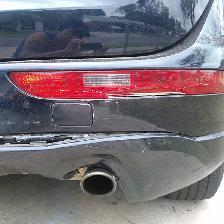tail_lamp: (6, 10, 224, 152)
